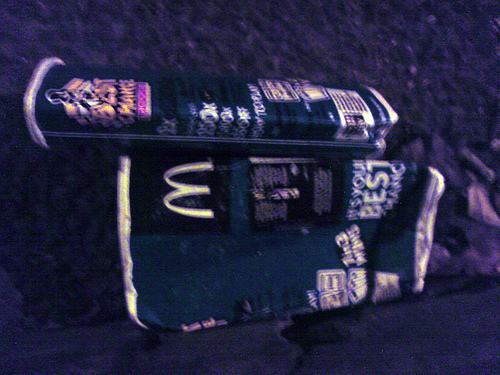litter: (116, 157, 439, 329), (24, 58, 397, 152)
